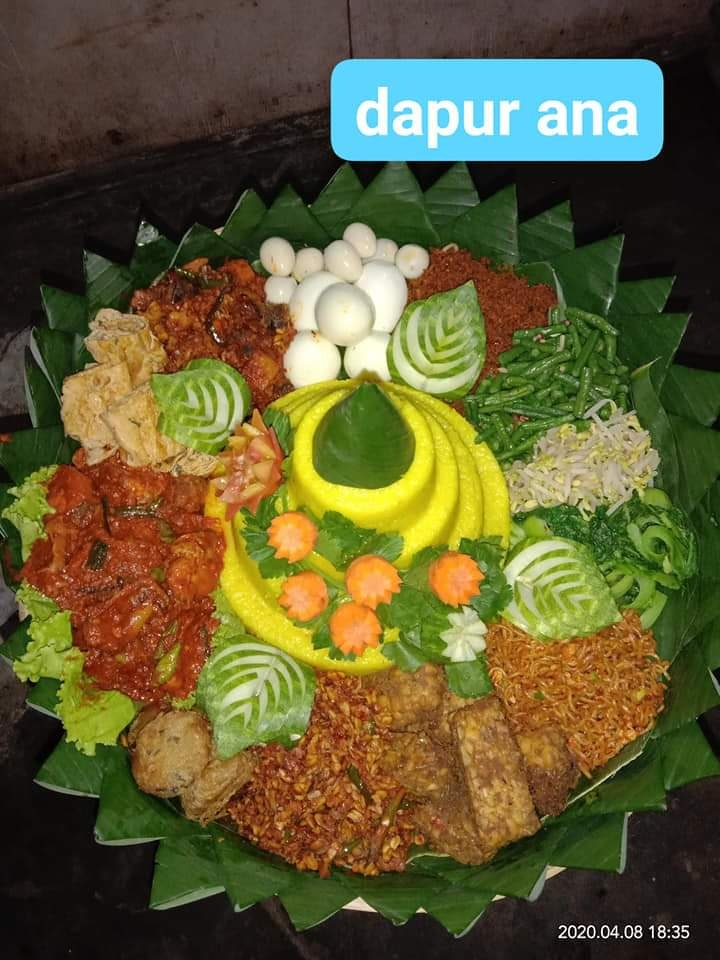nasi_tumpeng: (32, 220, 695, 868)
